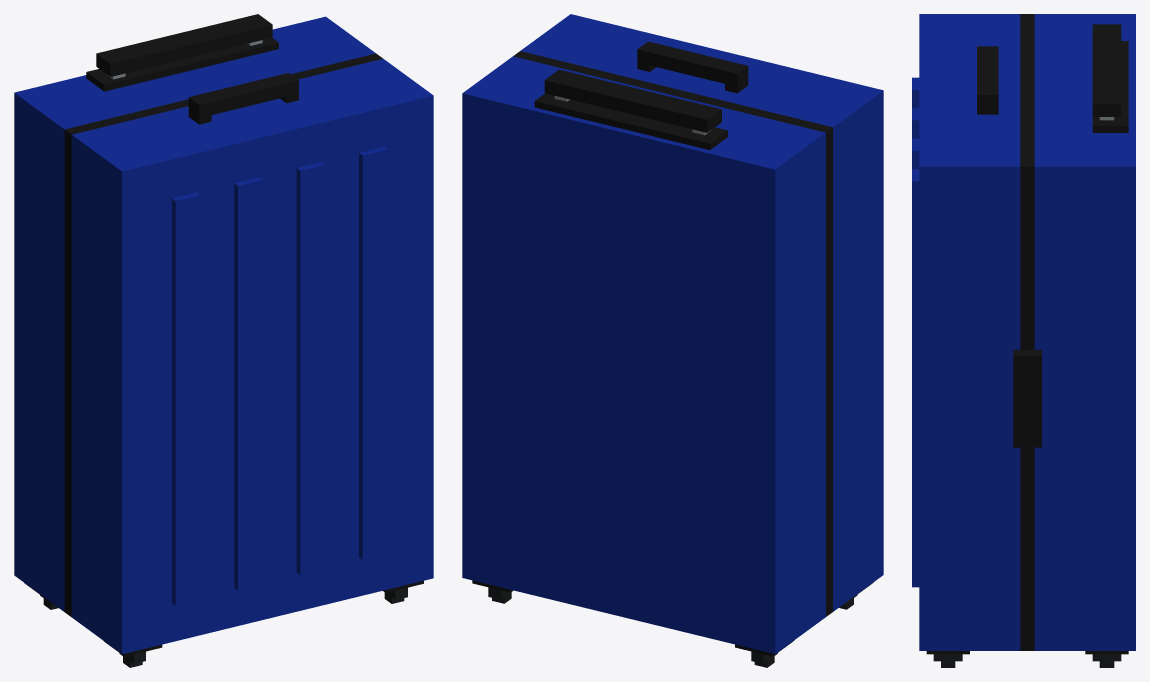
File: suitcase_l.glb
3 views of the same model, side by side, from view 1: azimuth 30°, elevation 25°; view 2: azimuth 150°, elevation 25°; view 3: azimuth 270°, elevation 25° (orthographic).
Visible parts, largest first — view 1: suitcase_l:compound; view 2: suitcase_l:compound; view 3: suitcase_l:compound.
Part boxes in pixels (x1,y1,x2,y2): suitcase_l:compound: [14, 14, 433, 667]; suitcase_l:compound: [462, 14, 883, 667]; suitcase_l:compound: [912, 14, 1135, 667].
Bounding box in the file's own units: 0.52 × 0.82 × 0.31.
